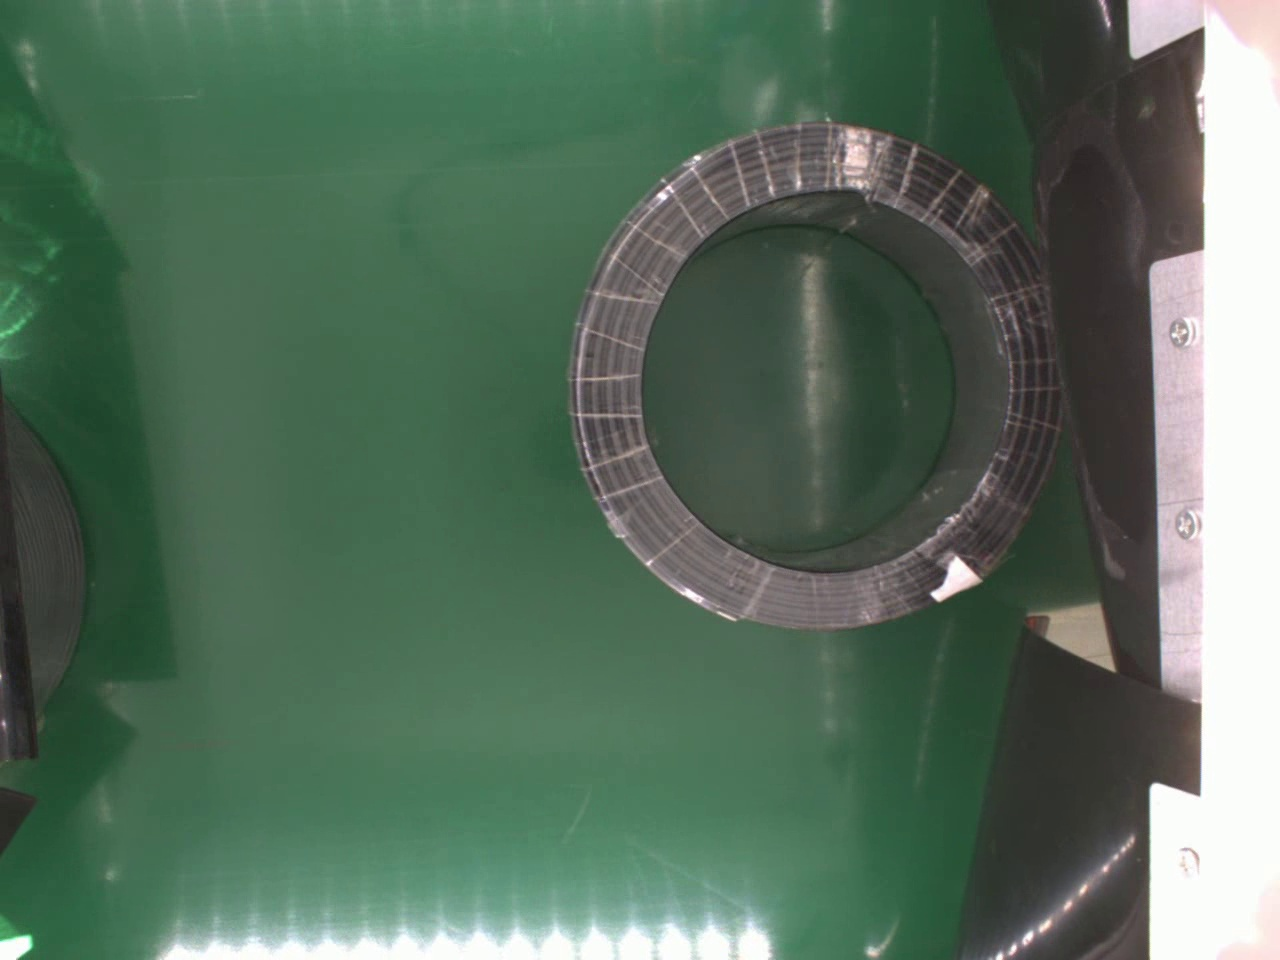black: (564, 114, 1061, 628)
